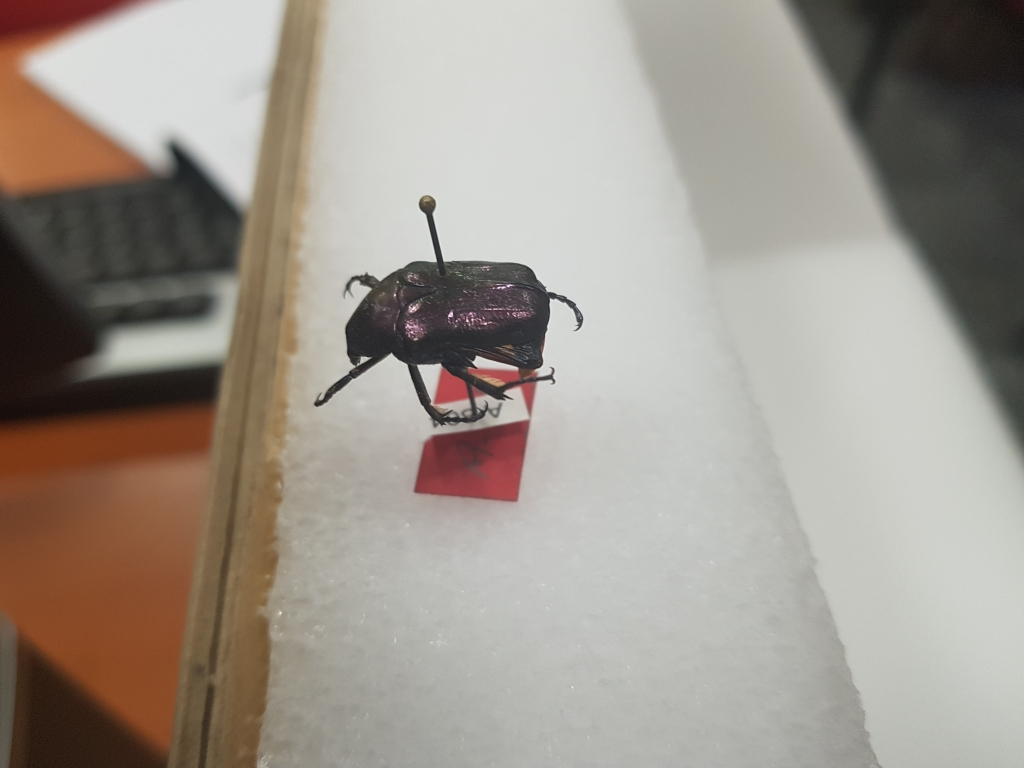Protaetia_besucheti: (308, 244, 586, 448)
